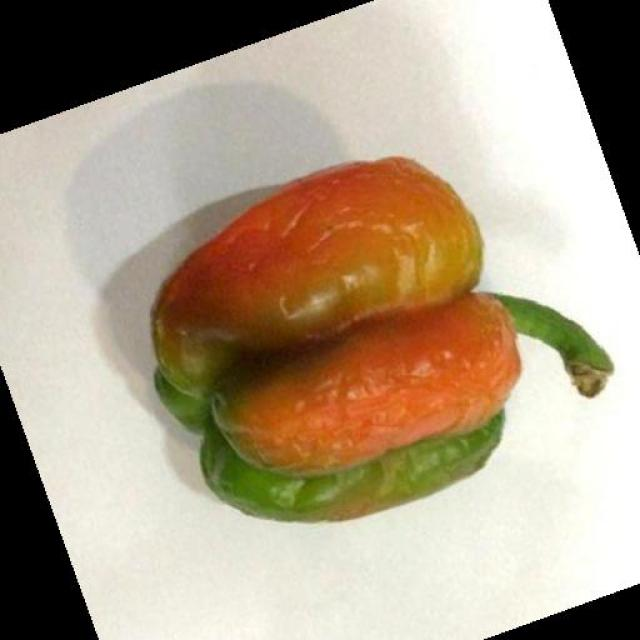Stale_Capsicum: (141, 149, 608, 512)
